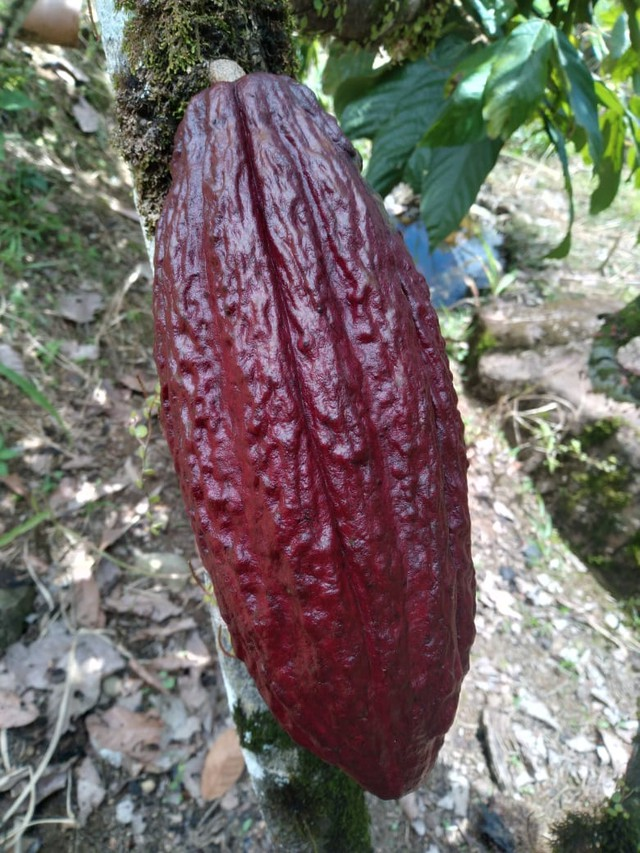Health: (132, 66, 517, 813)
